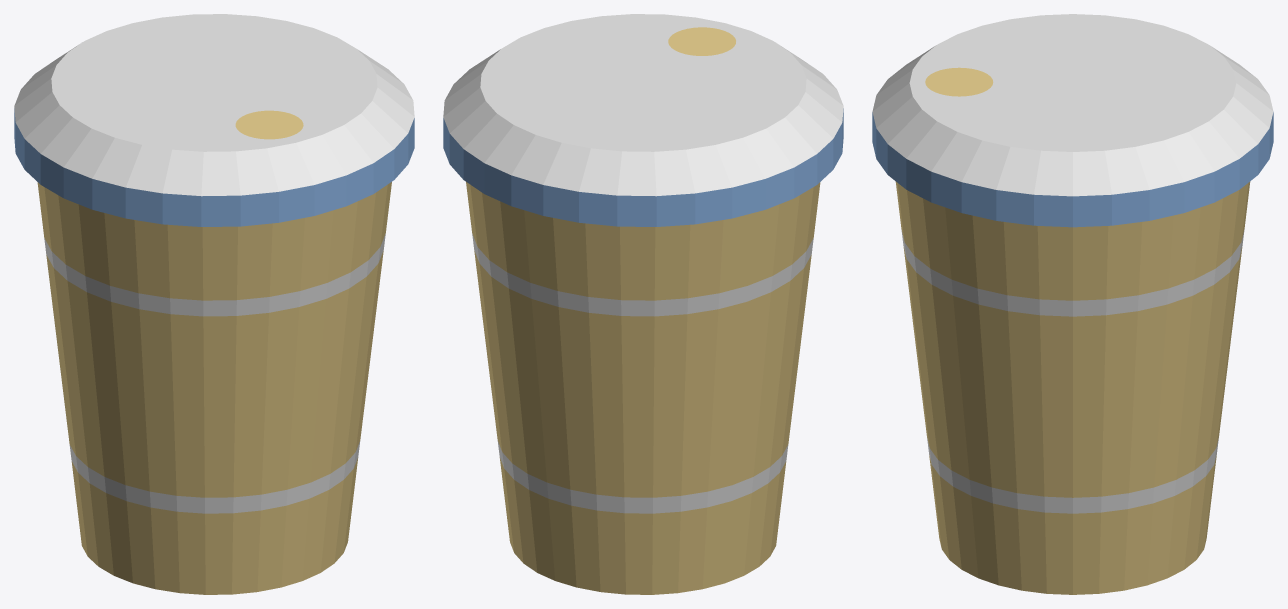
File: CoffeeCup.fbx
3 renders of one model, left to right at view 1: azimuth 30°, elevation 25°; view 2: azimuth 150°, elevation 25°; view 3: azimuth 270°, elevation 25°, orthographic.
Parts seen in each view (by area): view 1: CoffeeCup; view 2: CoffeeCup; view 3: CoffeeCup.
Part boxes in pixels (x1,y1,x2,y2): CoffeeCup: (14, 14, 414, 594); CoffeeCup: (443, 14, 843, 594); CoffeeCup: (872, 14, 1273, 594).
Bounding box in the file's own units: 3 × 3.76 × 3.
